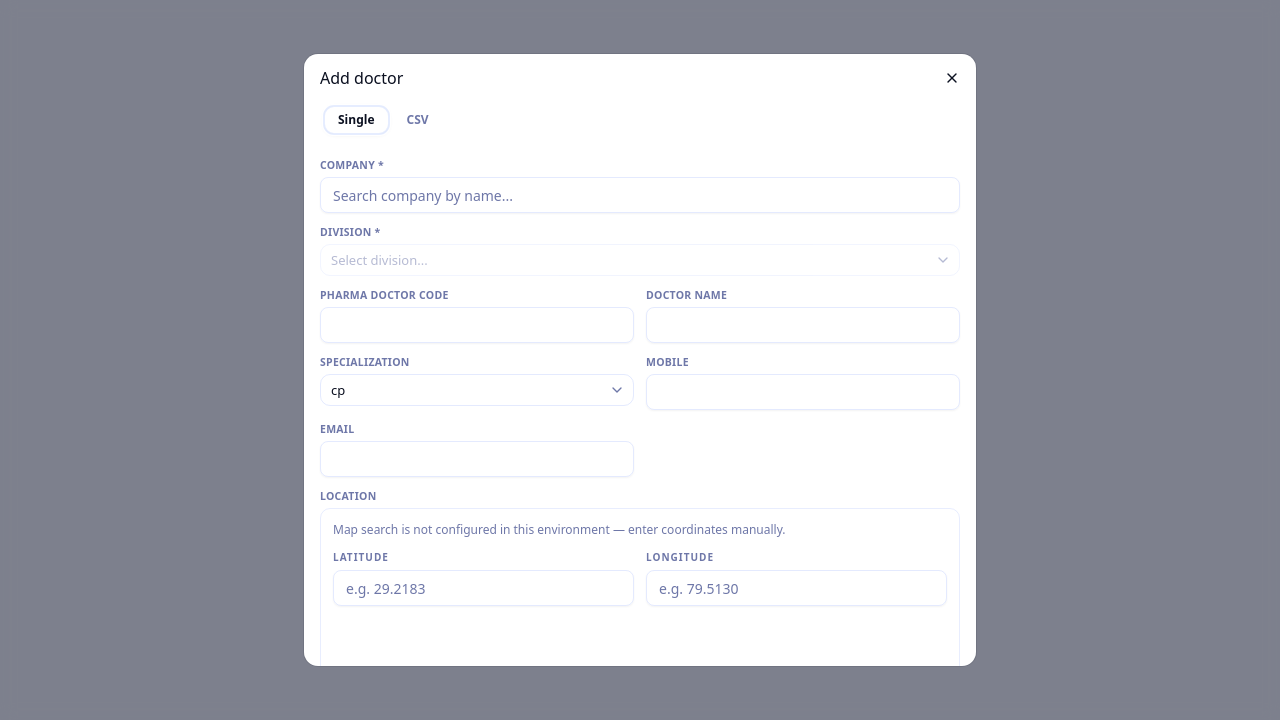
EditDoctorModal — division field › shows a division picker for a platform caller once a company is picked, and resets it when the company changes
In the field with placeholder "Search company by name...": (640,195) [320,177,960,213], type "Cipla"
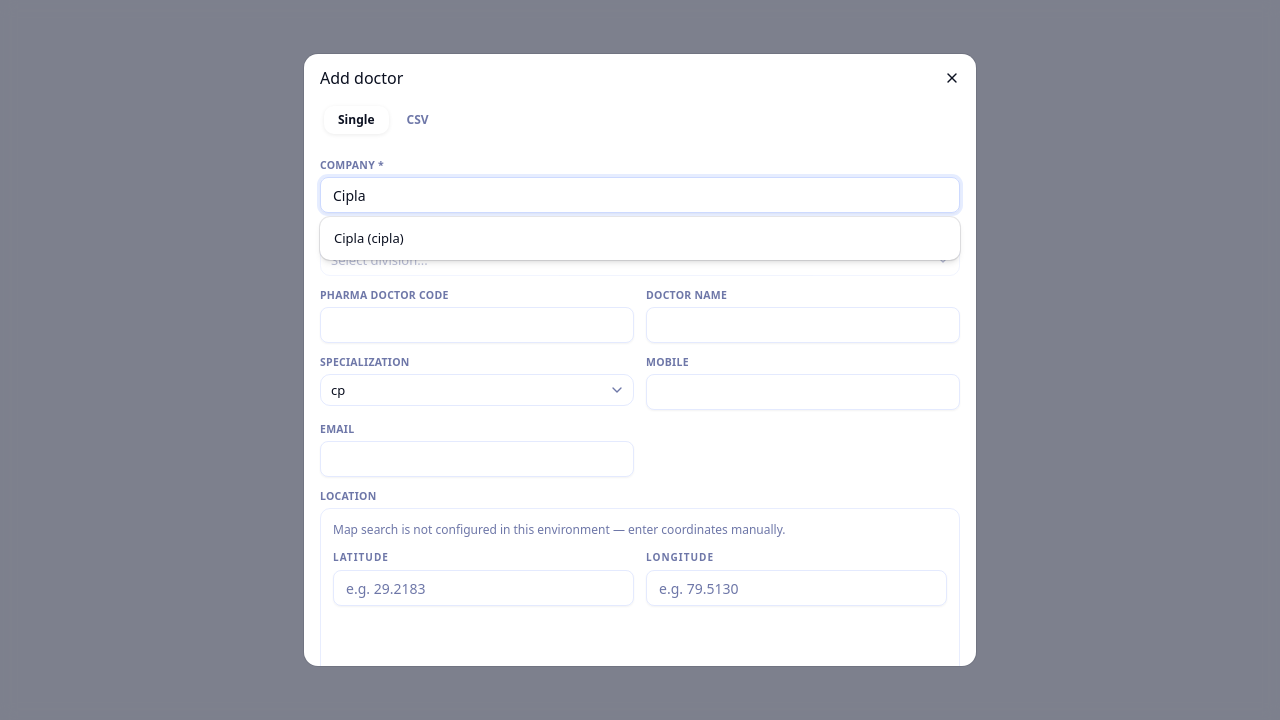
Click the button "Cipla (cipla)": (369,238) [326,223,954,254]
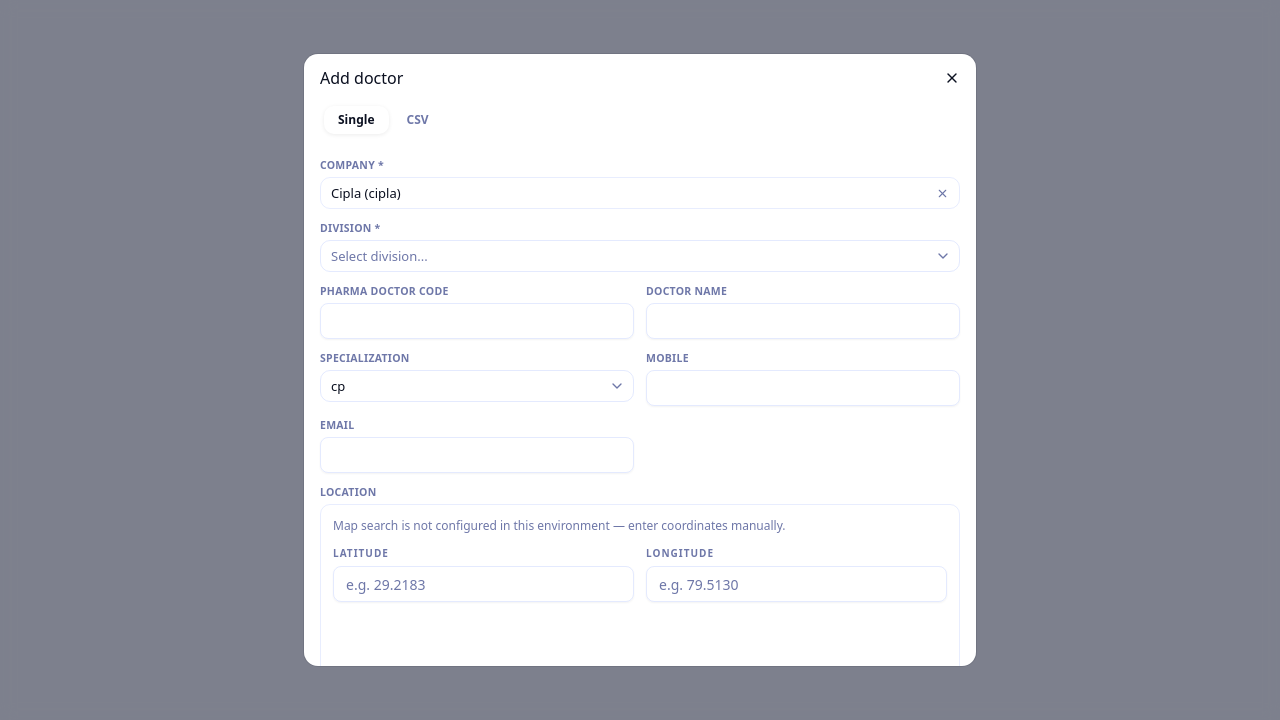
expect the text "Division *" is shown: met, box [320,221,381,235]
Click the dropdown labelled "Select division... ▼": (379,256) [320,240,960,272]
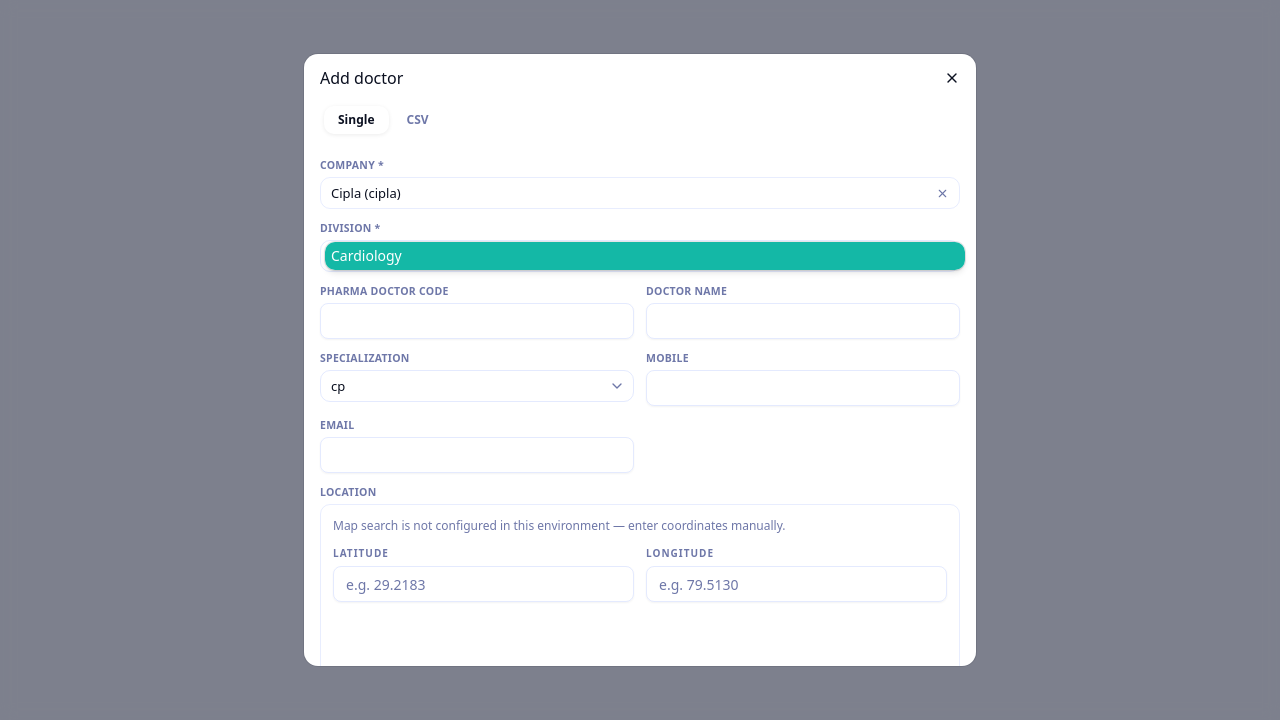
Click the option "Cardiology": (366,256) [325,242,965,270]
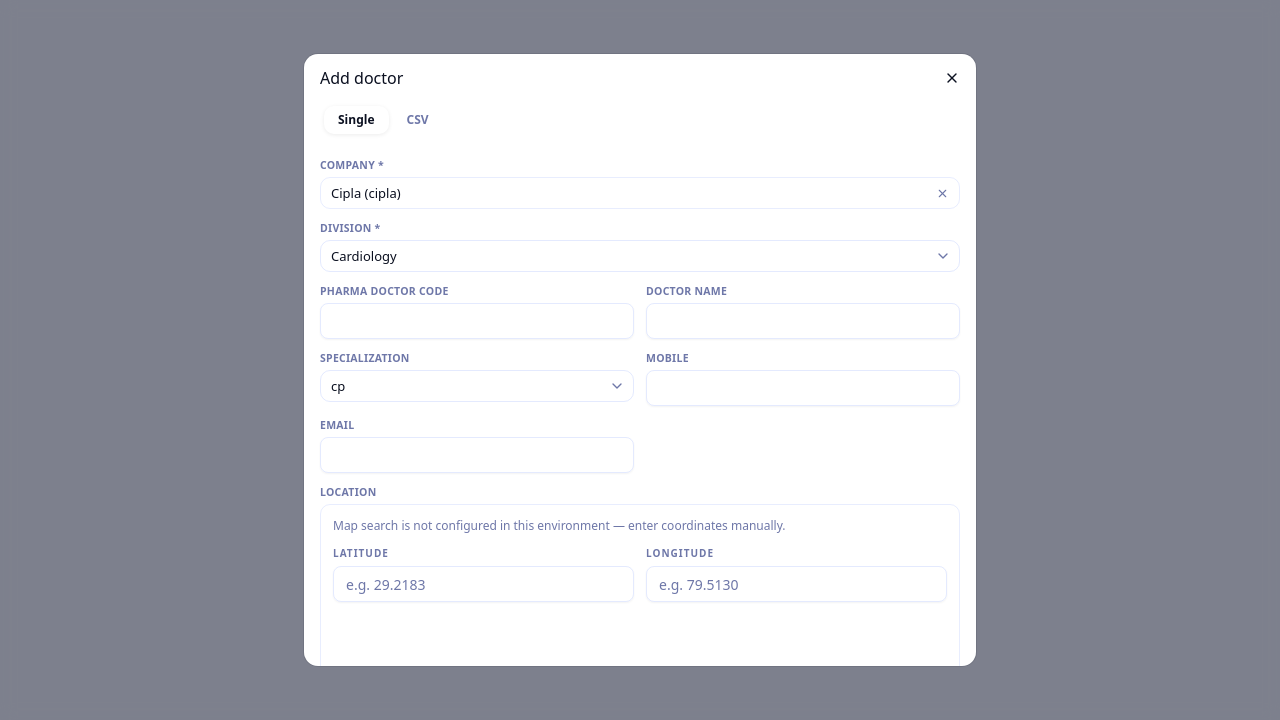
expect the text "Cardiology" is shown: met, box [331,247,397,265]
